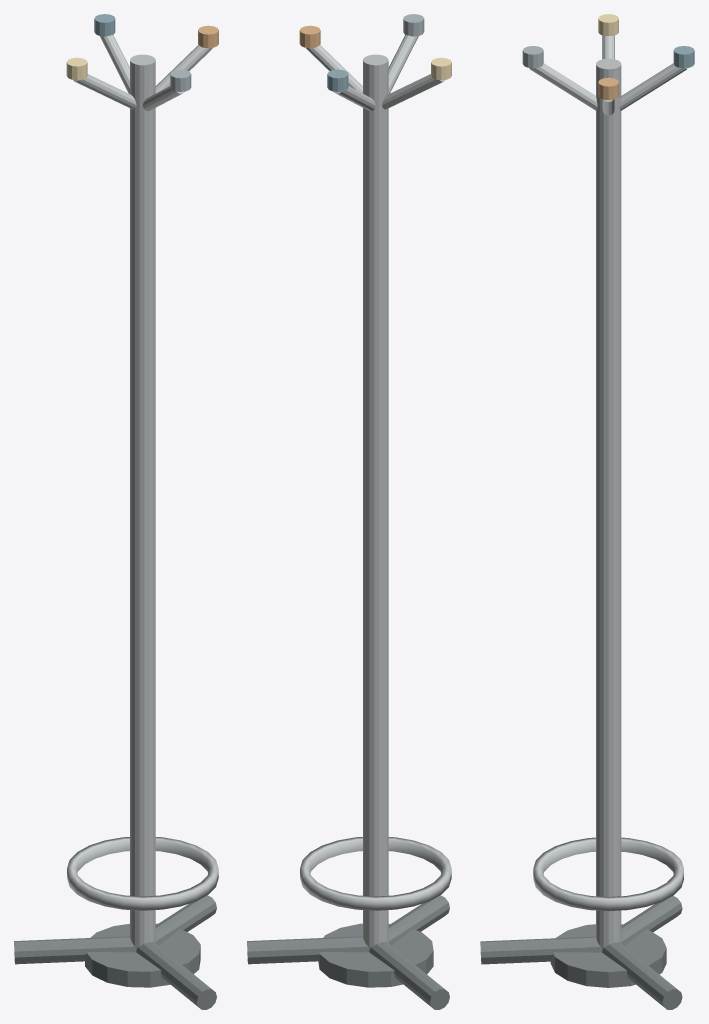
Rendered from coat-stand.glb.
The picture shows the model from 3 angles, left to right: view 1: azimuth 30°, elevation 25°; view 2: azimuth 150°, elevation 25°; view 3: azimuth 270°, elevation 25°; orthographic projection.
Visible parts, largest first — view 1: 154-coat-stand/1, 154-coat-stand/0; view 2: 154-coat-stand/1, 154-coat-stand/0; view 3: 154-coat-stand/1, 154-coat-stand/0.
Boxes of the visible parts, left/top/right/bottom form: 154-coat-stand/1: left=67, top=35, right=218, bottom=949; 154-coat-stand/0: left=14, top=895, right=216, bottom=1009; 154-coat-stand/1: left=300, top=35, right=451, bottom=949; 154-coat-stand/0: left=247, top=895, right=449, bottom=1009; 154-coat-stand/1: left=529, top=35, right=687, bottom=949; 154-coat-stand/0: left=480, top=896, right=682, bottom=1009.
Size of the model in its own units: 0.4011 by 1.74 by 0.3689.
